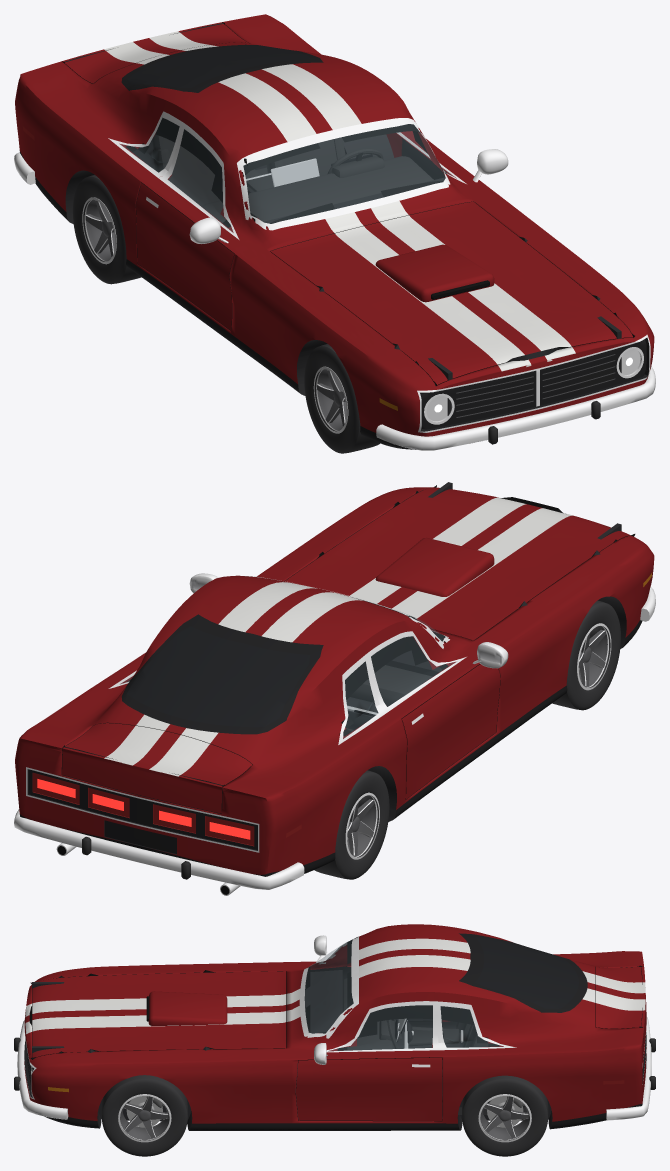
File: muscle-car.glb
3 renders of one model, top to bottom at view 1: azimuth 30°, elevation 25°; view 2: azimuth 150°, elevation 25°; view 3: azimuth 270°, elevation 25°, orthographic. The views are drawn at different scales.
Visible parts, largest first — view 1: body, bonnet_body, glass_windshield, interior, door_R_body, bumpers, wheel_FR_mesh, wheel_RR_mesh, hood_scoop, door_R_glass_side_R, boot_body, glass_side_R (+2 smaller); view 2: body, bonnet_body, boot_body, door_R_body, bumpers, wheel_RR_mesh, wheel_FR_mesh, hood_scoop, door_R_glass_side_R, interior, glass_side_R, mirror_R (+1 smaller); view 3: body, bonnet_body, door_L_body, wheel_FL_mesh, wheel_RL_mesh, interior, glass_windshield, door_L_glass_side_L, boot_body, hood_scoop, bumpers, glass_side_L.
Part boxes in pixels (left/top/right/bottom): body: left=15, top=14, right=654, bottom=449; bonnet_body: left=270, top=201, right=634, bottom=385; glass_windshield: left=237, top=118, right=450, bottom=230; interior: left=132, top=134, right=445, bottom=223; door_R_body: left=136, top=183, right=234, bottom=330; bumpers: left=14, top=152, right=655, bottom=450; wheel_FR_mesh: left=304, top=344, right=379, bottom=453; wheel_RR_mesh: left=72, top=175, right=141, bottom=284; hood_scoop: left=375, top=244, right=494, bottom=302; door_R_glass_side_R: left=158, top=121, right=239, bottom=239; boot_body: left=62, top=22, right=249, bottom=83; glass_side_R: left=108, top=111, right=181, bottom=177; body: left=15, top=487, right=654, bottom=876; bonnet_body: left=284, top=485, right=635, bottom=640; boot_body: left=62, top=723, right=252, bottom=813; door_R_body: left=401, top=664, right=500, bottom=799; bumpers: left=14, top=587, right=655, bottom=889; wheel_RR_mesh: left=314, top=770, right=389, bottom=879; wheel_FR_mesh: left=552, top=600, right=620, bottom=710; hood_scoop: left=375, top=537, right=494, bottom=596; door_R_glass_side_R: left=364, top=631, right=466, bottom=712; interior: left=346, top=650, right=442, bottom=731; glass_side_R: left=338, top=656, right=386, bottom=744; mirror_R: left=472, top=642, right=508, bottom=668; body: left=24, top=924, right=646, bottom=1130; bonnet_body: left=29, top=970, right=286, bottom=1059; door_L_body: left=296, top=1057, right=442, bottom=1121; wheel_FL_mesh: left=101, top=1075, right=187, bottom=1156; wheel_RL_mesh: left=462, top=1075, right=548, bottom=1156; interior: left=295, top=970, right=526, bottom=1114; glass_windshield: left=299, top=936, right=358, bottom=1038; door_L_glass_side_L: left=326, top=1001, right=444, bottom=1052; boot_body: left=595, top=966, right=646, bottom=1047; hood_scoop: left=146, top=991, right=227, bottom=1025; bumpers: left=14, top=1017, right=655, bottom=1120; glass_side_L: left=438, top=1001, right=516, bottom=1050.
Size of the model in its own units: 2.16 by 1.31 by 4.9.
